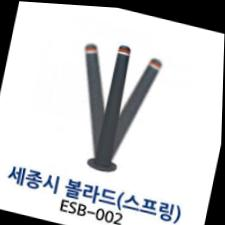Animal: (80, 31, 149, 175)
